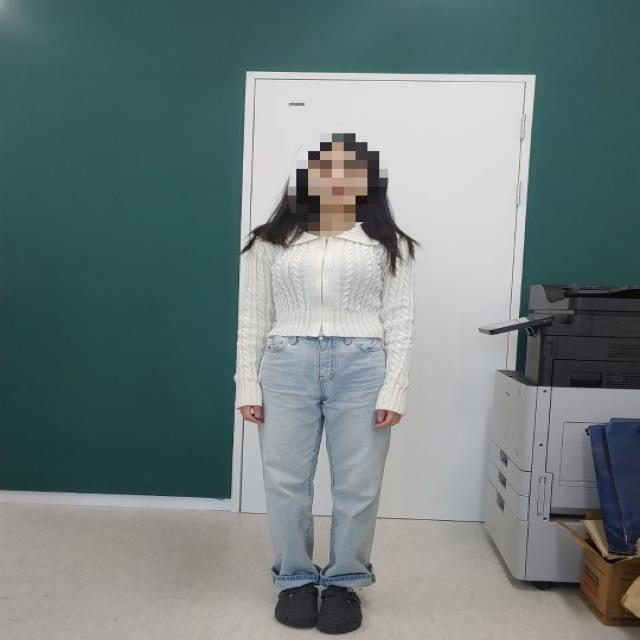cardigan: (242, 217, 409, 418)
denimpants: (259, 332, 394, 588)
